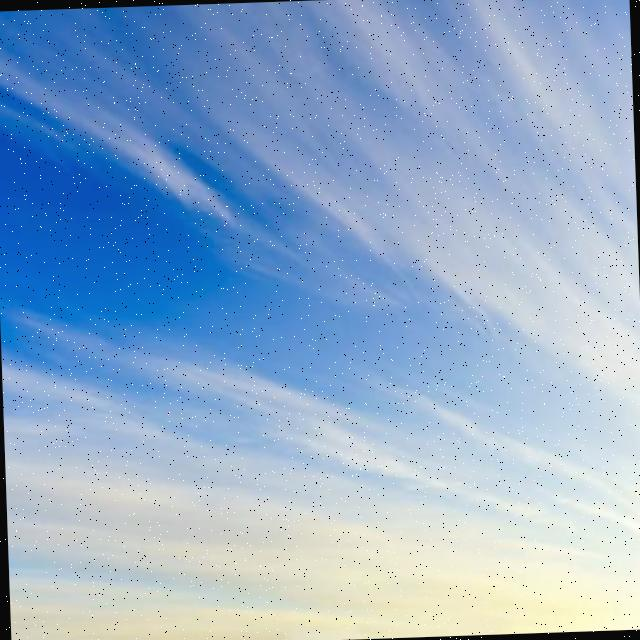Ci: (1, 1, 640, 619)
